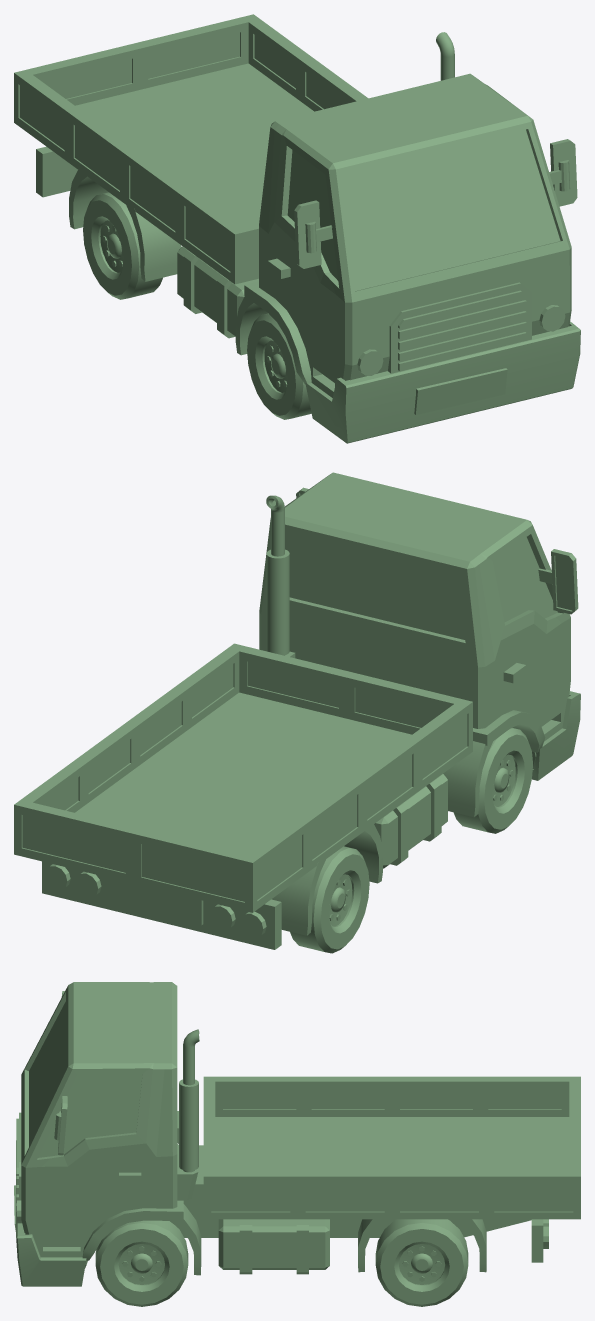
Rendered from Truck.fbx.
3 views of the same model, one above another, from view 1: azimuth 30°, elevation 25°; view 2: azimuth 150°, elevation 25°; view 3: azimuth 270°, elevation 25° (orthographic). The views are drawn at different scales.
Visible parts, largest first — view 1: Truck, Wheels_Back, Wheels_Front; view 2: Truck, Wheels_Back, Wheels_Front; view 3: Truck, Wheels_Back, Wheels_Front.
Part boxes in pixels (<box>): Truck: <box>14,14,580,443</box>; Wheels_Back: <box>83,192,162,299</box>; Wheels_Front: <box>247,313,311,419</box>; Truck: <box>14,472,580,949</box>; Wheels_Back: <box>290,846,369,953</box>; Wheels_Front: <box>453,727,532,833</box>; Truck: <box>14,982,580,1286</box>; Wheels_Back: <box>375,1219,468,1306</box>; Wheels_Front: <box>95,1144,188,1306</box>.
Bounding box in the file's own units: 197 × 211 × 408.
